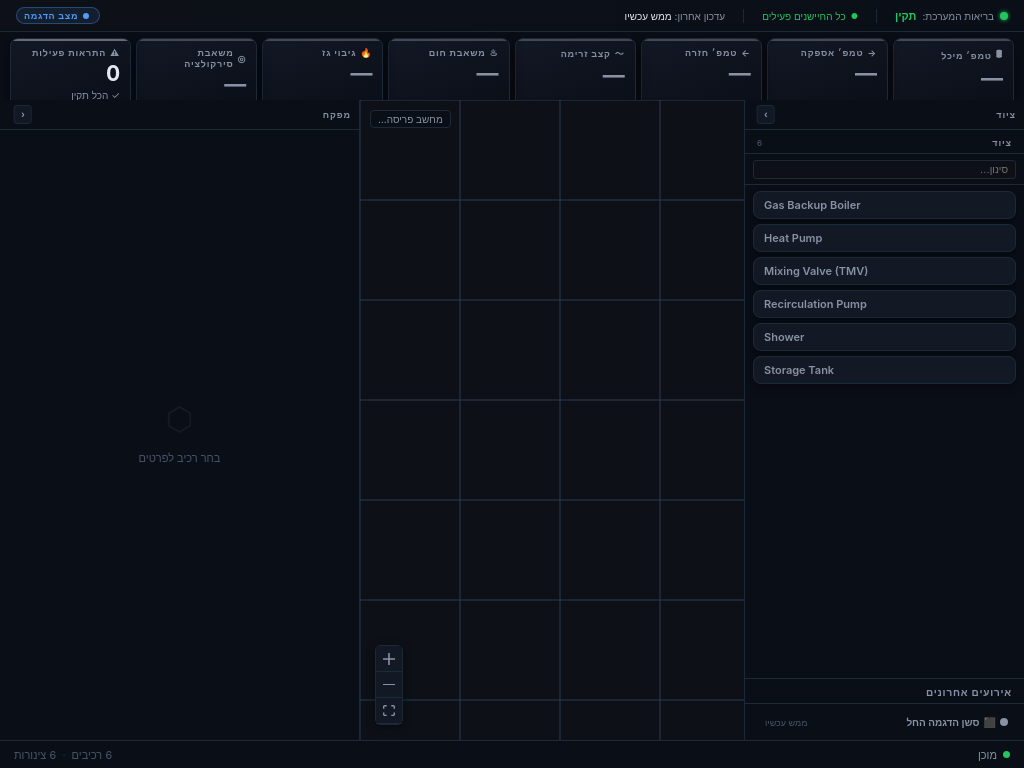
Test: MissionControlView › re-expands left sidebar via sidebar-left-expand button
What coordinates should you click on to do the following:
click the button with test id "sidebar-left-toggle"
I would click on:
 (766, 114)
Its box is top-left (757, 105), bottom-right (775, 124).
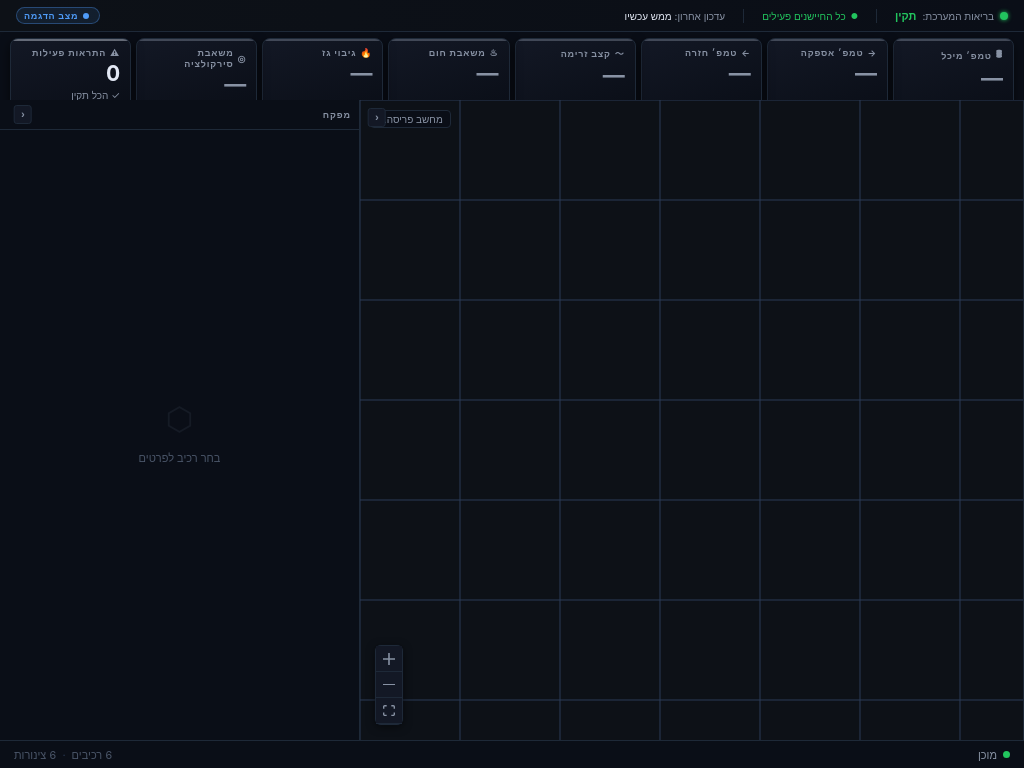
What coordinates should you click on to do the following:
click the button with test id "sidebar-left-expand"
I would click on:
 (377, 118)
Its box is top-left (368, 108), bottom-right (386, 127).
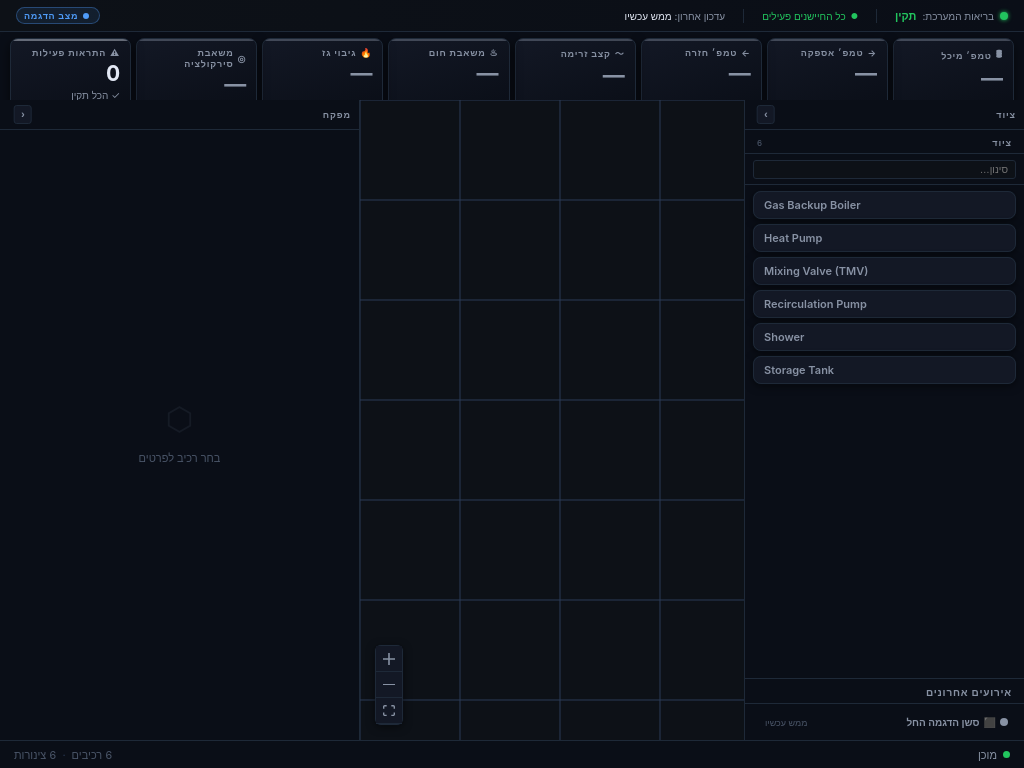
Check: the button with test id "sidebar-left-expand" is gone
